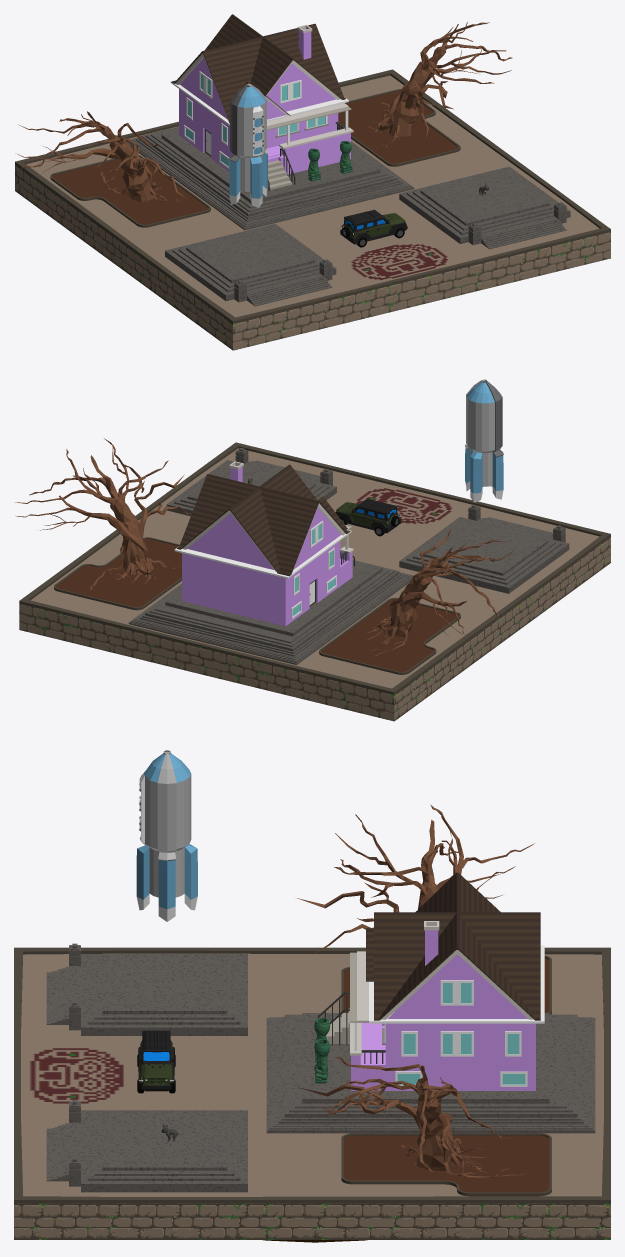
3 views of the same model, one above another, from view 1: azimuth 30°, elevation 25°; view 2: azimuth 150°, elevation 25°; view 3: azimuth 270°, elevation 25° (orthographic). The views are drawn at different scales.
Parts seen in each view (by area): view 1: Cube.011, Cube.391, OBJRANDOM_ROCKETSHIP, VEHICLES_JEEP; view 2: Cube.011, Cube.391, OBJRANDOM_ROCKETSHIP, VEHICLES_JEEP; view 3: Cube.011, Cube.391, OBJRANDOM_ROCKETSHIP, VEHICLES_JEEP.
Boxes of the visible parts, box(x1,y1,x2,y2) form: Cube.011: box(15, 22, 610, 350); Cube.391: box(170, 14, 353, 190); OBJRANDOM_ROCKETSHIP: box(229, 83, 268, 207); VEHICLES_JEEP: box(340, 209, 407, 247); Cube.011: box(15, 438, 610, 721); Cube.391: box(174, 461, 354, 626); OBJRANDOM_ROCKETSHIP: box(465, 379, 503, 502); VEHICLES_JEEP: box(335, 498, 400, 536); Cube.011: box(14, 804, 610, 1239); Cube.391: box(317, 872, 544, 1090); OBJRANDOM_ROCKETSHIP: box(136, 750, 197, 921); VEHICLES_JEEP: box(137, 1030, 175, 1093).
Bounding box in the file's own units: 5099 × 2242 × 4000.
39 materials, 5 textured.
